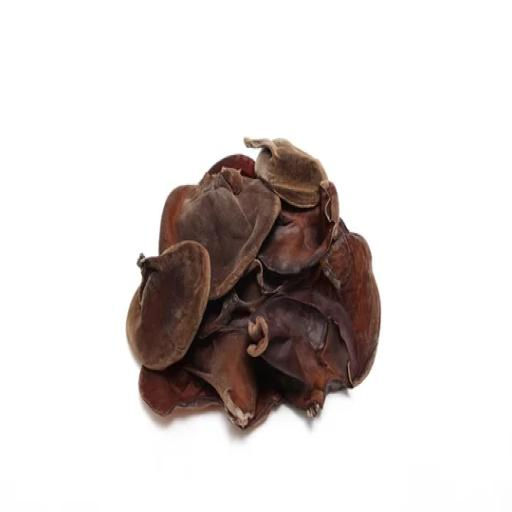Wood Ear Mushroom: (117, 115, 386, 459)
